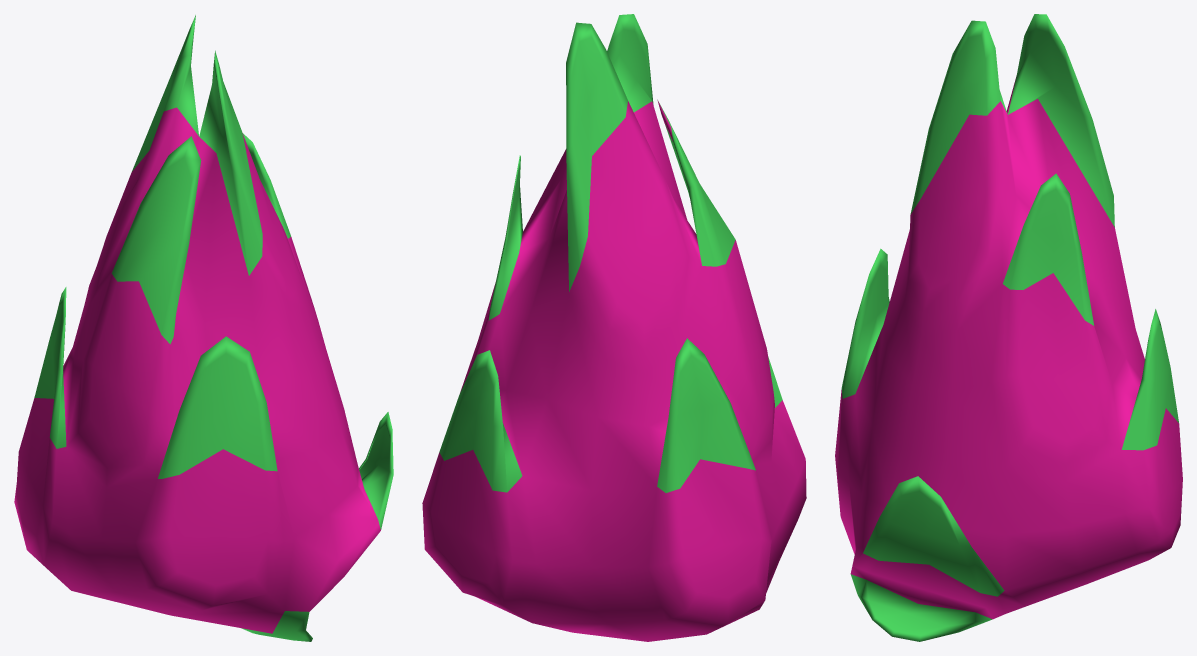
Rendered from pitayada.fbx.
3 renders of one model, left to right at view 1: azimuth 30°, elevation 25°; view 2: azimuth 150°, elevation 25°; view 3: azimuth 270°, elevation 25°, orthographic. The views are drawn at different scales.
Parts seen in each view (by area): view 1: Cube; view 2: Cube; view 3: Cube.
Boxes of the visible parts, x1,y1,x2,y2 form: Cube: [14, 15, 393, 641]; Cube: [422, 14, 806, 641]; Cube: [835, 14, 1182, 641].
Size of the model in its own units: 162 by 308 by 159.
